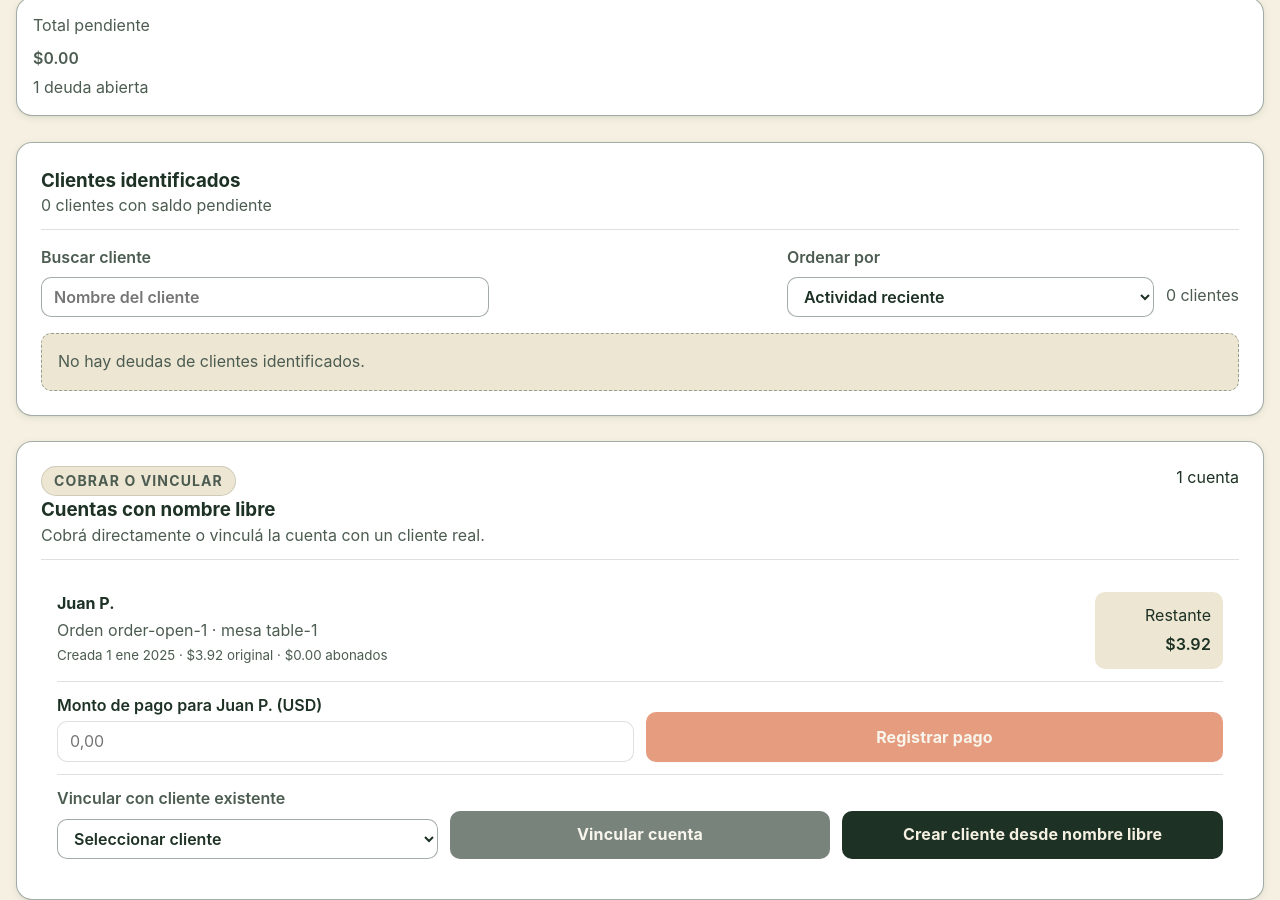
PendingDebtsContainer › links a free-name pending account to an existing customer
(page scrolled)
Expected: the element named "Cuenta pendiente de Juan P." is shown, [41,576,1239,875]
Select "Juan P." in the dropdown labelled "Vincular con cliente existente" at (247, 839), box [57,819,438,859]
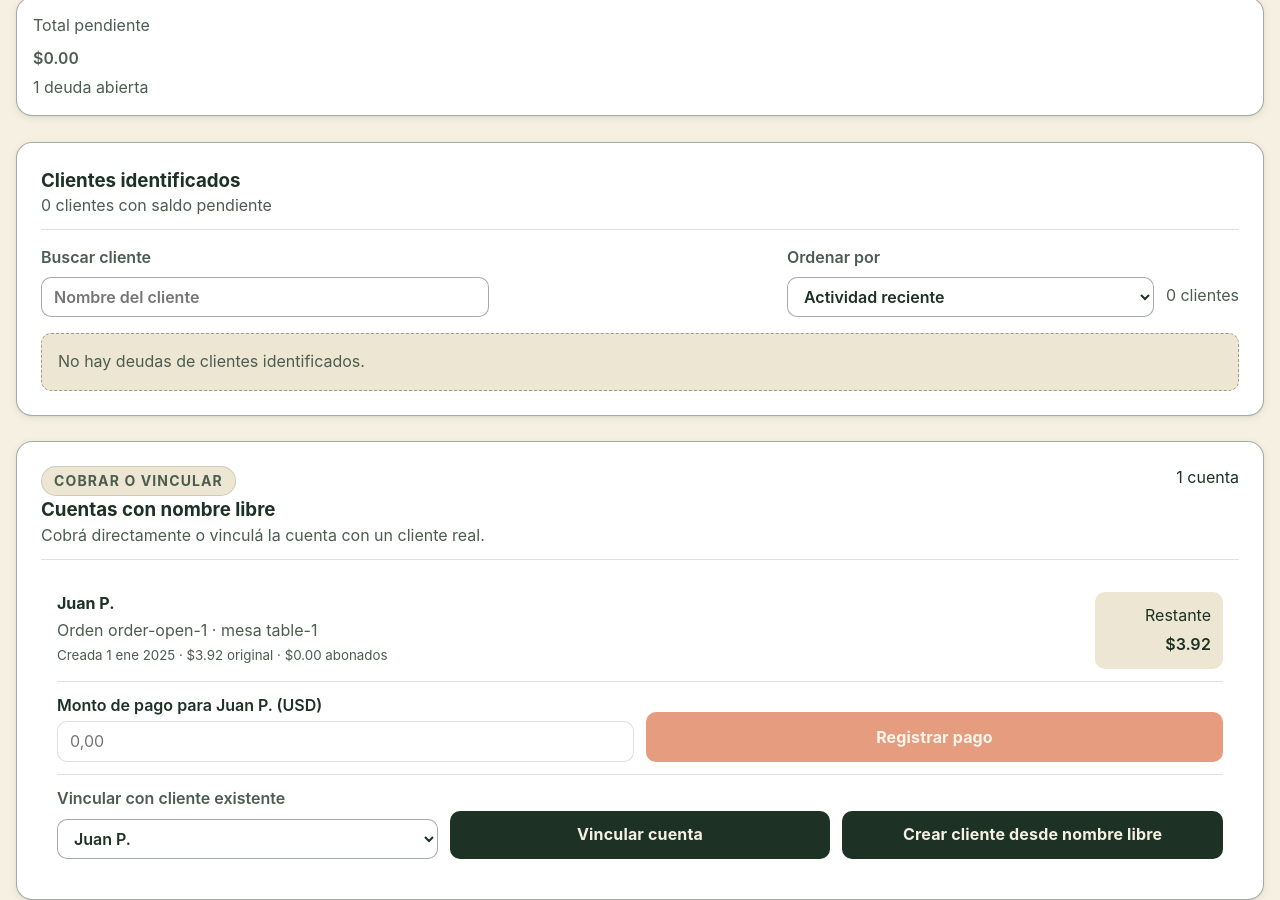
Click the button "Vincular cuenta" at (640, 835), box [450,811,830,859]
(page scrolled)
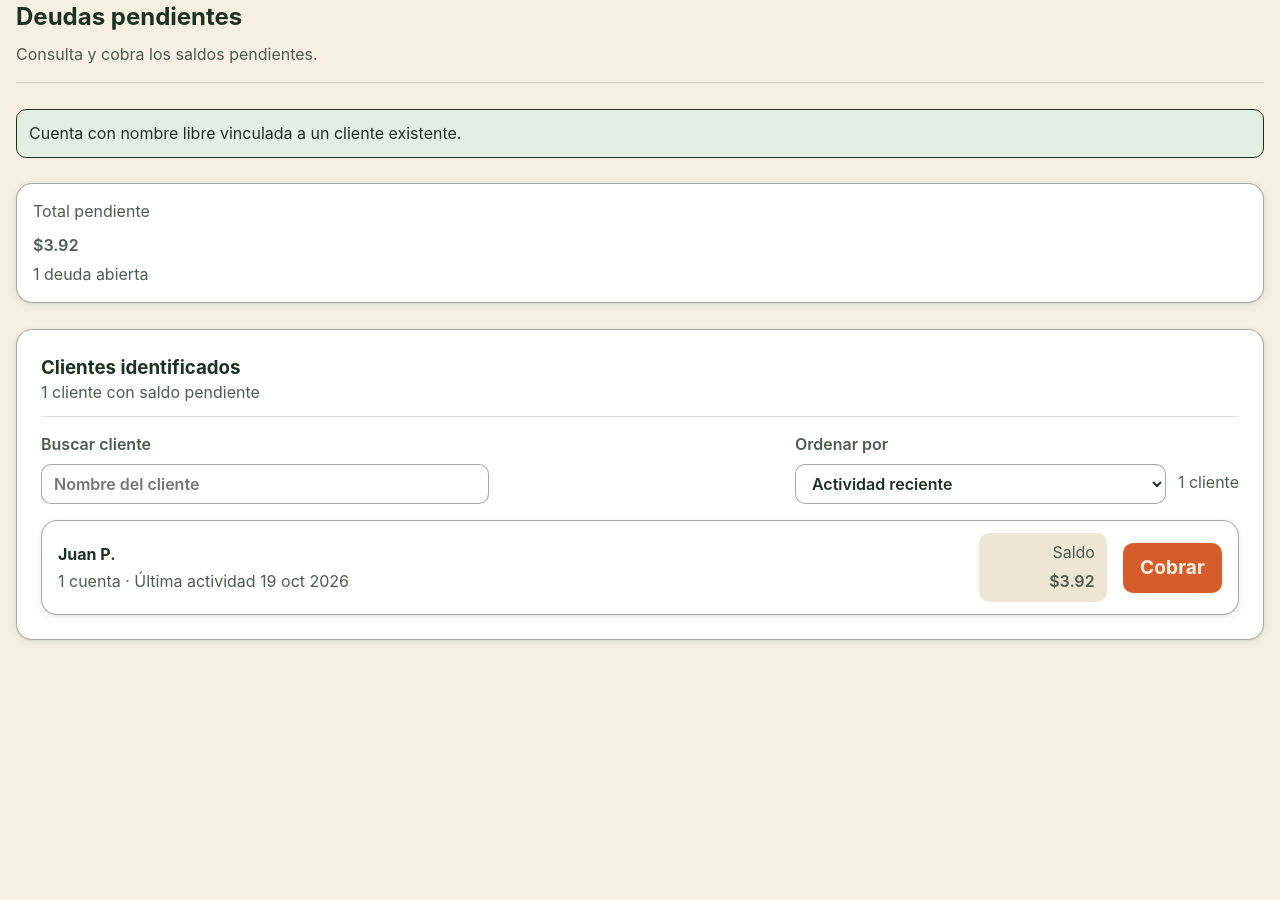
Expected: the message shows "vinculada a un cliente existente", [29,123,461,143]
